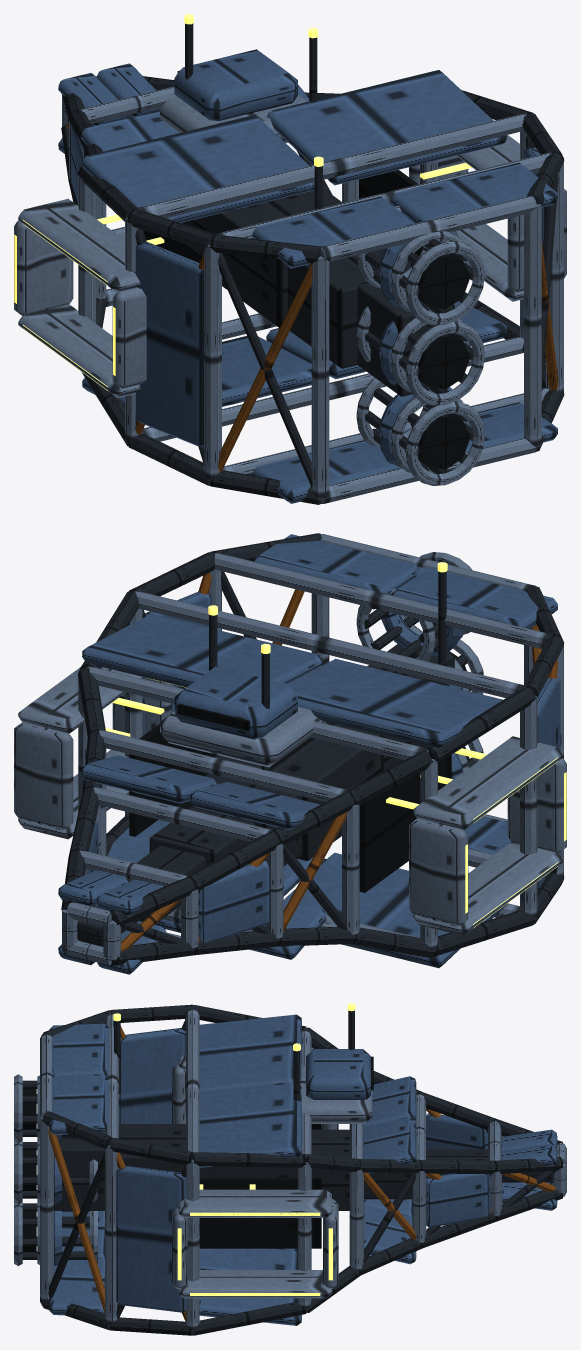
File: colossal-etapa-2.glb
The picture shows the model from 3 angles, top to bottom: view 1: azimuth 30°, elevation 25°; view 2: azimuth 150°, elevation 25°; view 3: azimuth 270°, elevation 25°; orthographic projection. The views are drawn at different scales.
Visible parts, largest first — view 1: Costela transversal, Painel modular do convés, Longarina longitudinal, Parede interna da baia, Treliça diagonal, Baliza longitudinal do hangar; view 2: Costela transversal, Painel modular do convés, Longarina longitudinal, Parede interna da baia, Treliça diagonal, Baliza longitudinal do hangar; view 3: Painel modular do convés, Costela transversal, Longarina longitudinal, Parede interna da baia, Treliça diagonal, Baliza longitudinal do hangar.
Part boxes in pixels (<box>): Costela transversal: <box>14,76,566,503</box>; Painel modular do convés: <box>58,49,557,503</box>; Longarina longitudinal: <box>61,23,564,504</box>; Parede interna da baia: <box>143,71,470,469</box>; Treliça diagonal: <box>66,123,558,471</box>; Baliza longitudinal do hangar: <box>14,14,472,390</box>; Costela transversal: <box>14,534,566,964</box>; Painel modular do convés: <box>58,534,560,974</box>; Longarina longitudinal: <box>61,533,564,965</box>; Parede interna da baia: <box>129,623,469,892</box>; Treliça diagonal: <box>120,572,558,950</box>; Baliza longitudinal do hangar: <box>105,562,566,928</box>; Painel modular do convés: <box>49,1014,557,1325</box>; Costela transversal: <box>14,1006,566,1334</box>; Longarina longitudinal: <box>22,1004,562,1335</box>; Parede interna da baia: <box>22,1056,373,1252</box>; Treliça diagonal: <box>48,1026,555,1322</box>; Baliza longitudinal do hangar: <box>113,1003,355,1295</box>.
Size of the model in its own units: 153 by 106 by 212.
Materials: 6 (5 with a texture image).
